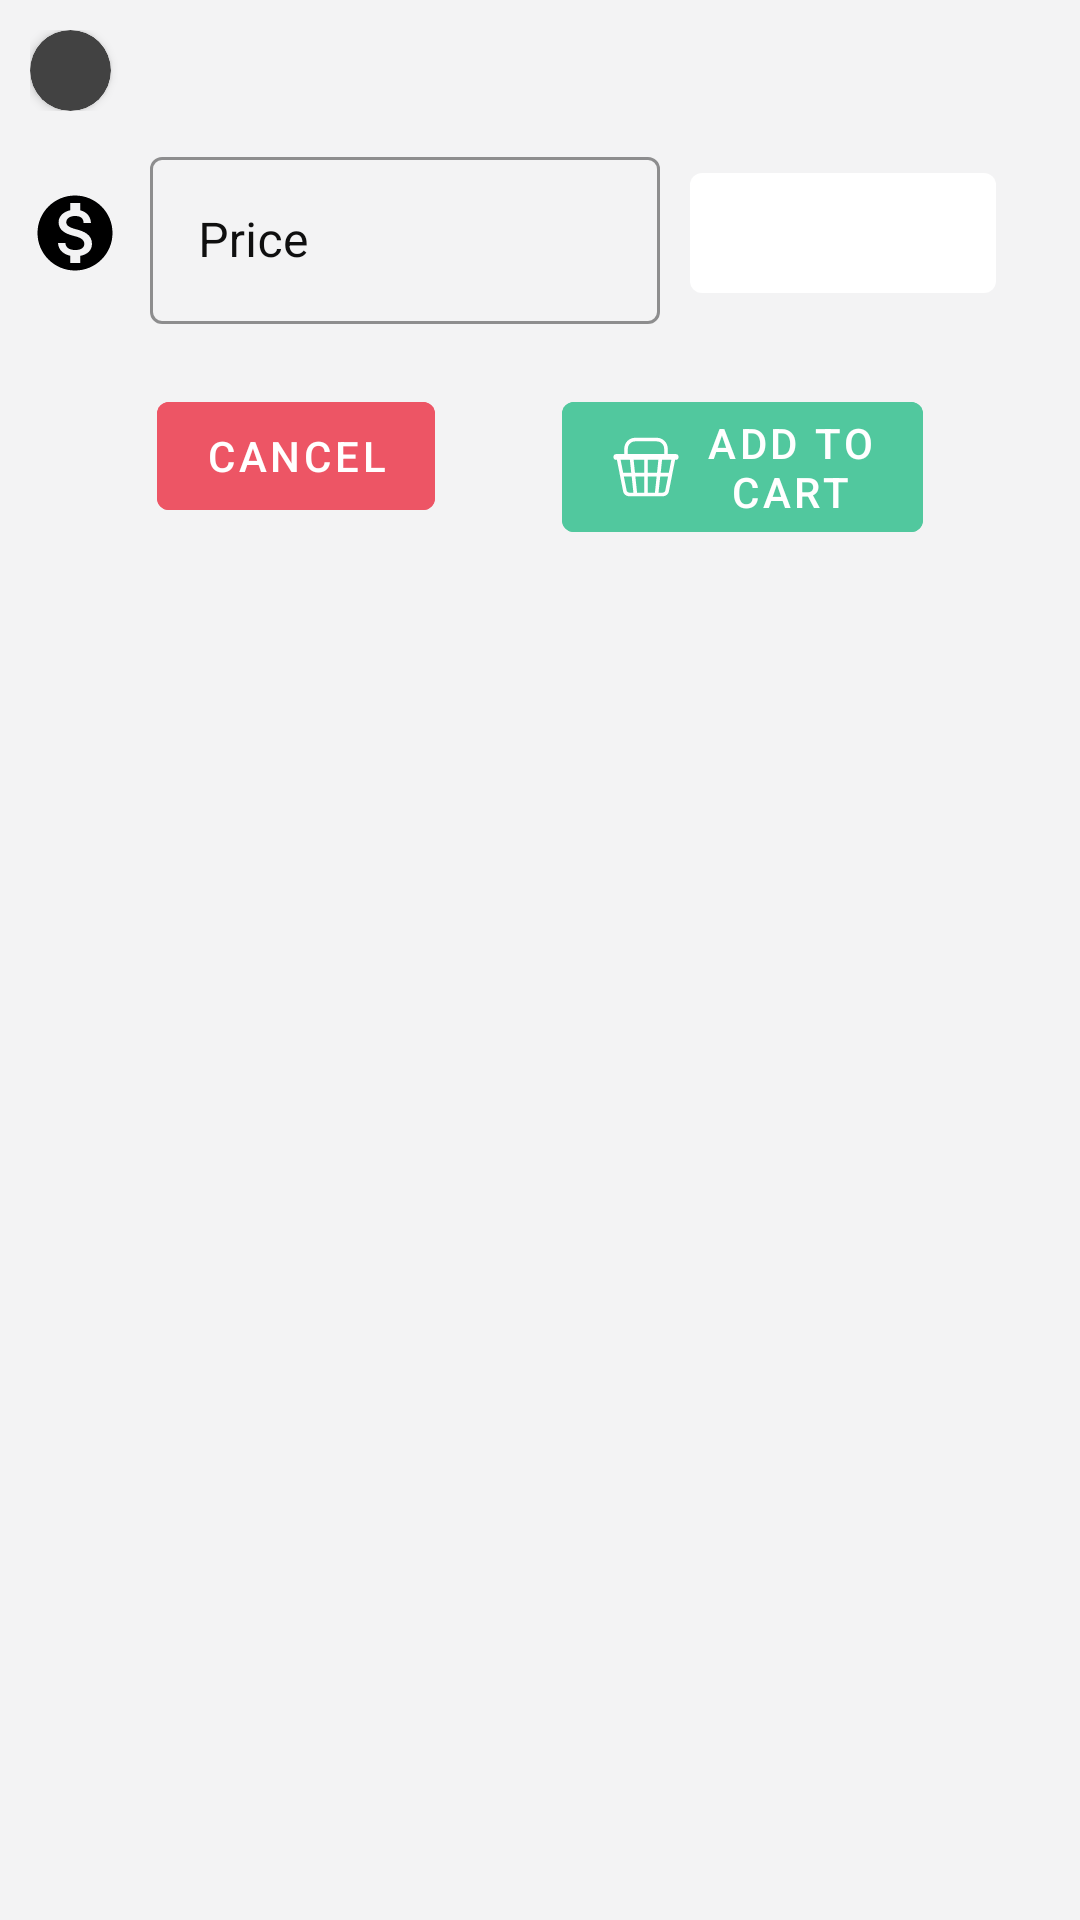

Screen size 1080 × 1920. Icon name, then its box in pixels as (x1, y1, x2, y2):
monetization on: (37, 195, 113, 271)
